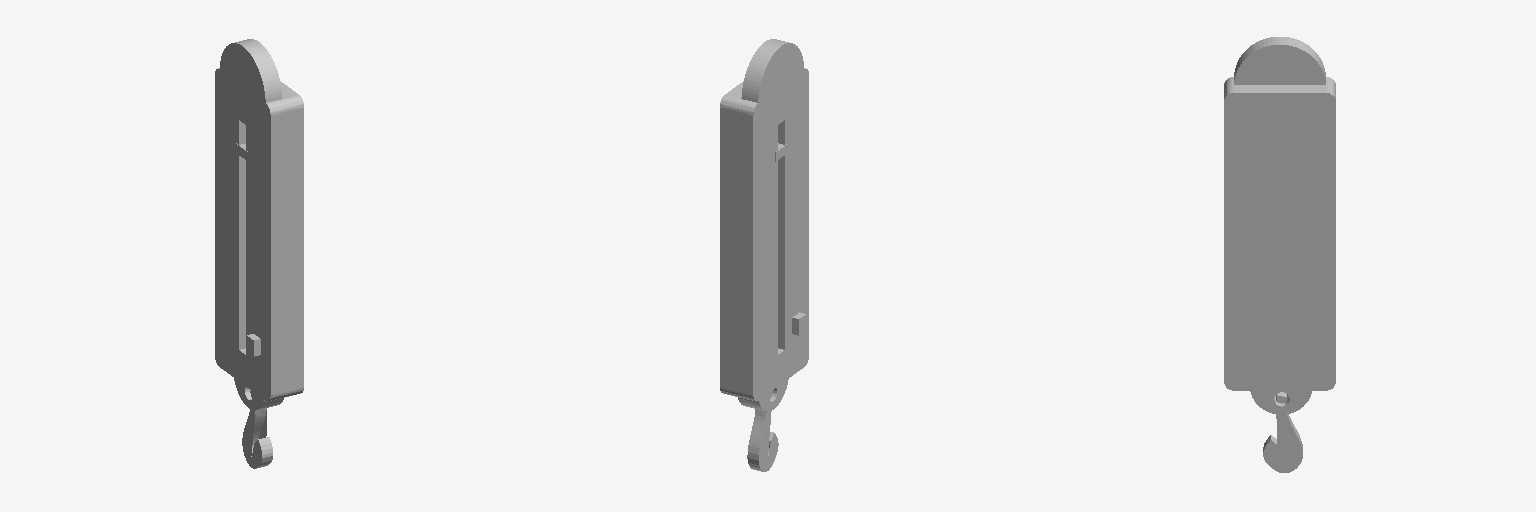
Rendered from springBalance 3.obj.
3 renders of one model, left to right at view 1: azimuth 30°, elevation 25°; view 2: azimuth 150°, elevation 25°; view 3: azimuth 270°, elevation 25°, orthographic.
Visible parts, largest first — view 1: object_3; view 2: object_3; view 3: object_3.
Part boxes in pixels (x1,y1,x2,y2): object_3: (215, 39, 303, 468); object_3: (720, 39, 808, 471); object_3: (1224, 37, 1335, 472).
Bounding box in the file's own units: 1.18 × 11.79 × 2.81.